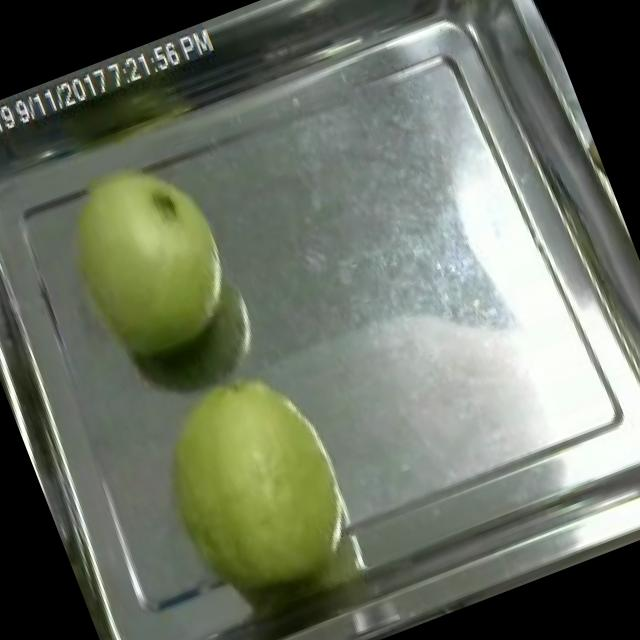Fruit: (126, 344, 381, 624), (31, 132, 262, 392)
